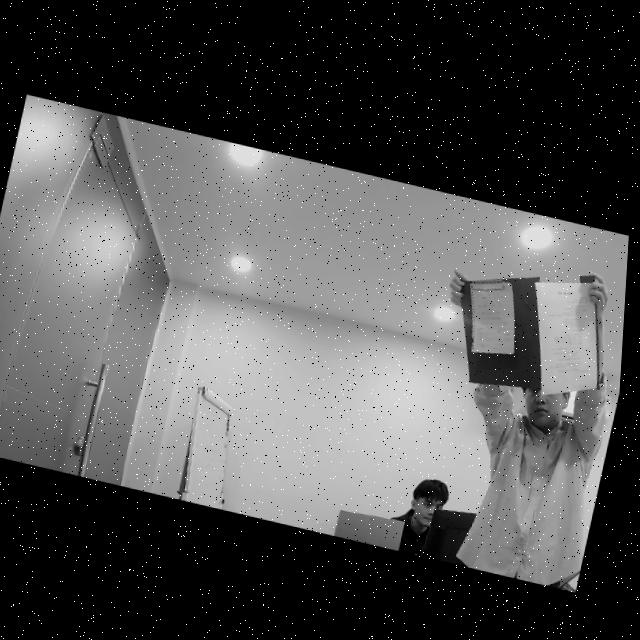document: (535, 283, 597, 395), (469, 283, 514, 355)
face: (391, 470, 451, 540)
